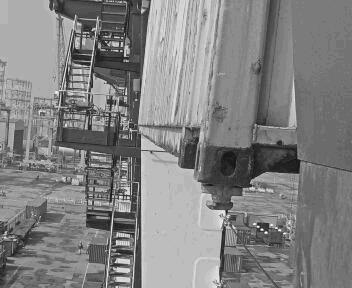twist_lock_1: (187, 140, 208, 164)
